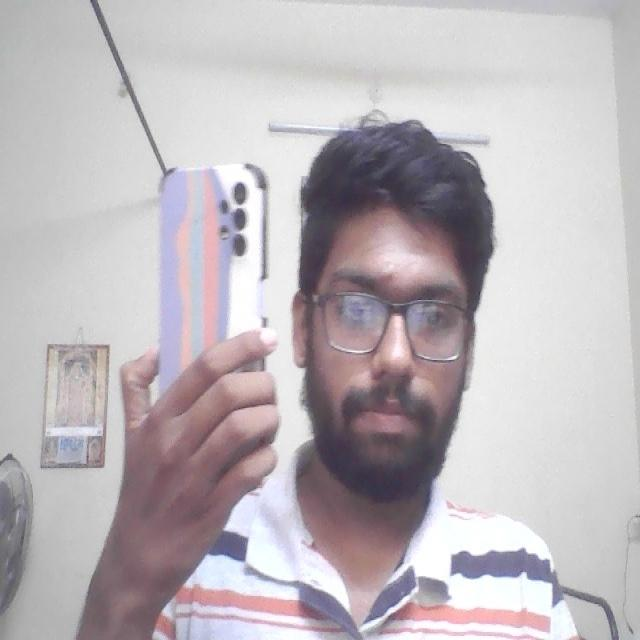Mobile: (152, 166, 271, 344)
